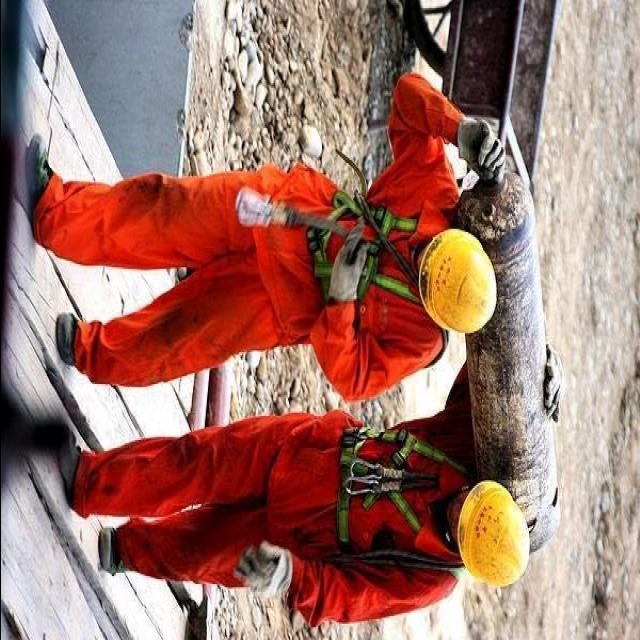helmet: (412, 211, 504, 333), (453, 477, 531, 591)
jacket: (269, 150, 458, 400), (268, 422, 465, 612)
